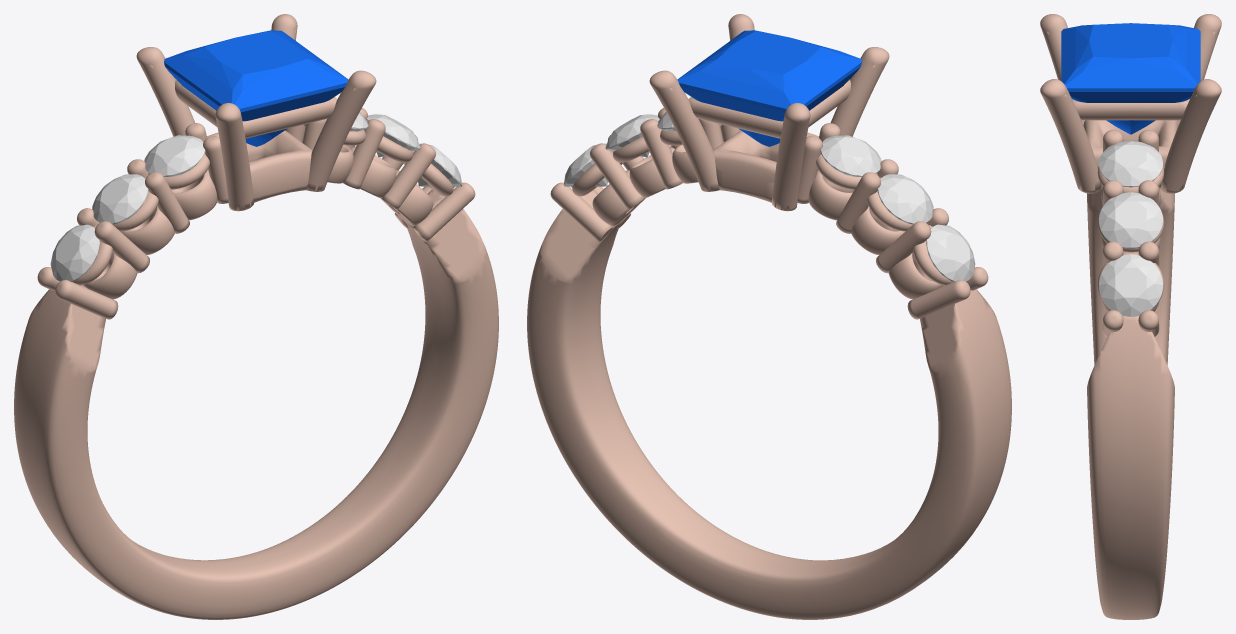
File: bluesapphire-princess-rosegold-4prong-straighttaperedband-7stone.glb
3 renders of one model, left to right at view 1: azimuth 30°, elevation 25°; view 2: azimuth 150°, elevation 25°; view 3: azimuth 270°, elevation 25°, orthographic.
Parts seen in each view (by area): view 1: metal, stone, side, side.001, side.002, side.004, side.005; view 2: metal, stone, side, side.001, side.002, side.004, side.005; view 3: metal, stone, side.005, side.004, side.003.
Part boxes in pixels (x1,y1,x2,y2): metal: [14, 14, 498, 619]; stone: [164, 30, 348, 146]; side: [50, 224, 99, 281]; side.001: [92, 174, 148, 224]; side.002: [144, 135, 205, 176]; side.004: [366, 114, 420, 157]; side.005: [418, 143, 462, 186]; metal: [527, 14, 1011, 619]; stone: [677, 30, 861, 146]; side: [926, 224, 975, 281]; side.001: [877, 174, 933, 224]; side.002: [820, 135, 881, 176]; side.004: [605, 114, 659, 157]; side.005: [563, 143, 607, 186]; metal: [1040, 14, 1221, 619]; stone: [1061, 23, 1200, 134]; side.005: [1099, 254, 1162, 316]; side.004: [1099, 192, 1162, 248]; side.003: [1099, 140, 1162, 187].
Bounding box in the file's own units: 20.51 × 23.86 × 7.08.
